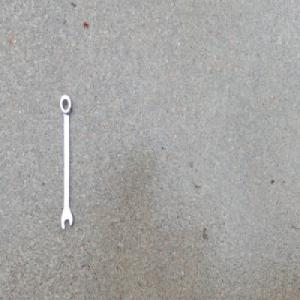Wrench: (58, 92, 74, 232)
